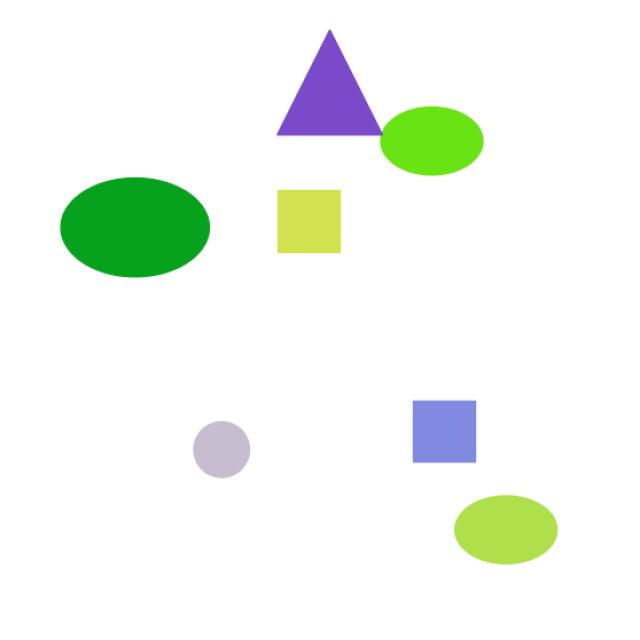Oval: (39, 166, 235, 283), (368, 106, 525, 185), (443, 489, 573, 567)
Triangle: (267, 17, 394, 150)
square: (397, 388, 492, 469), (270, 186, 356, 263), (182, 412, 267, 488)
